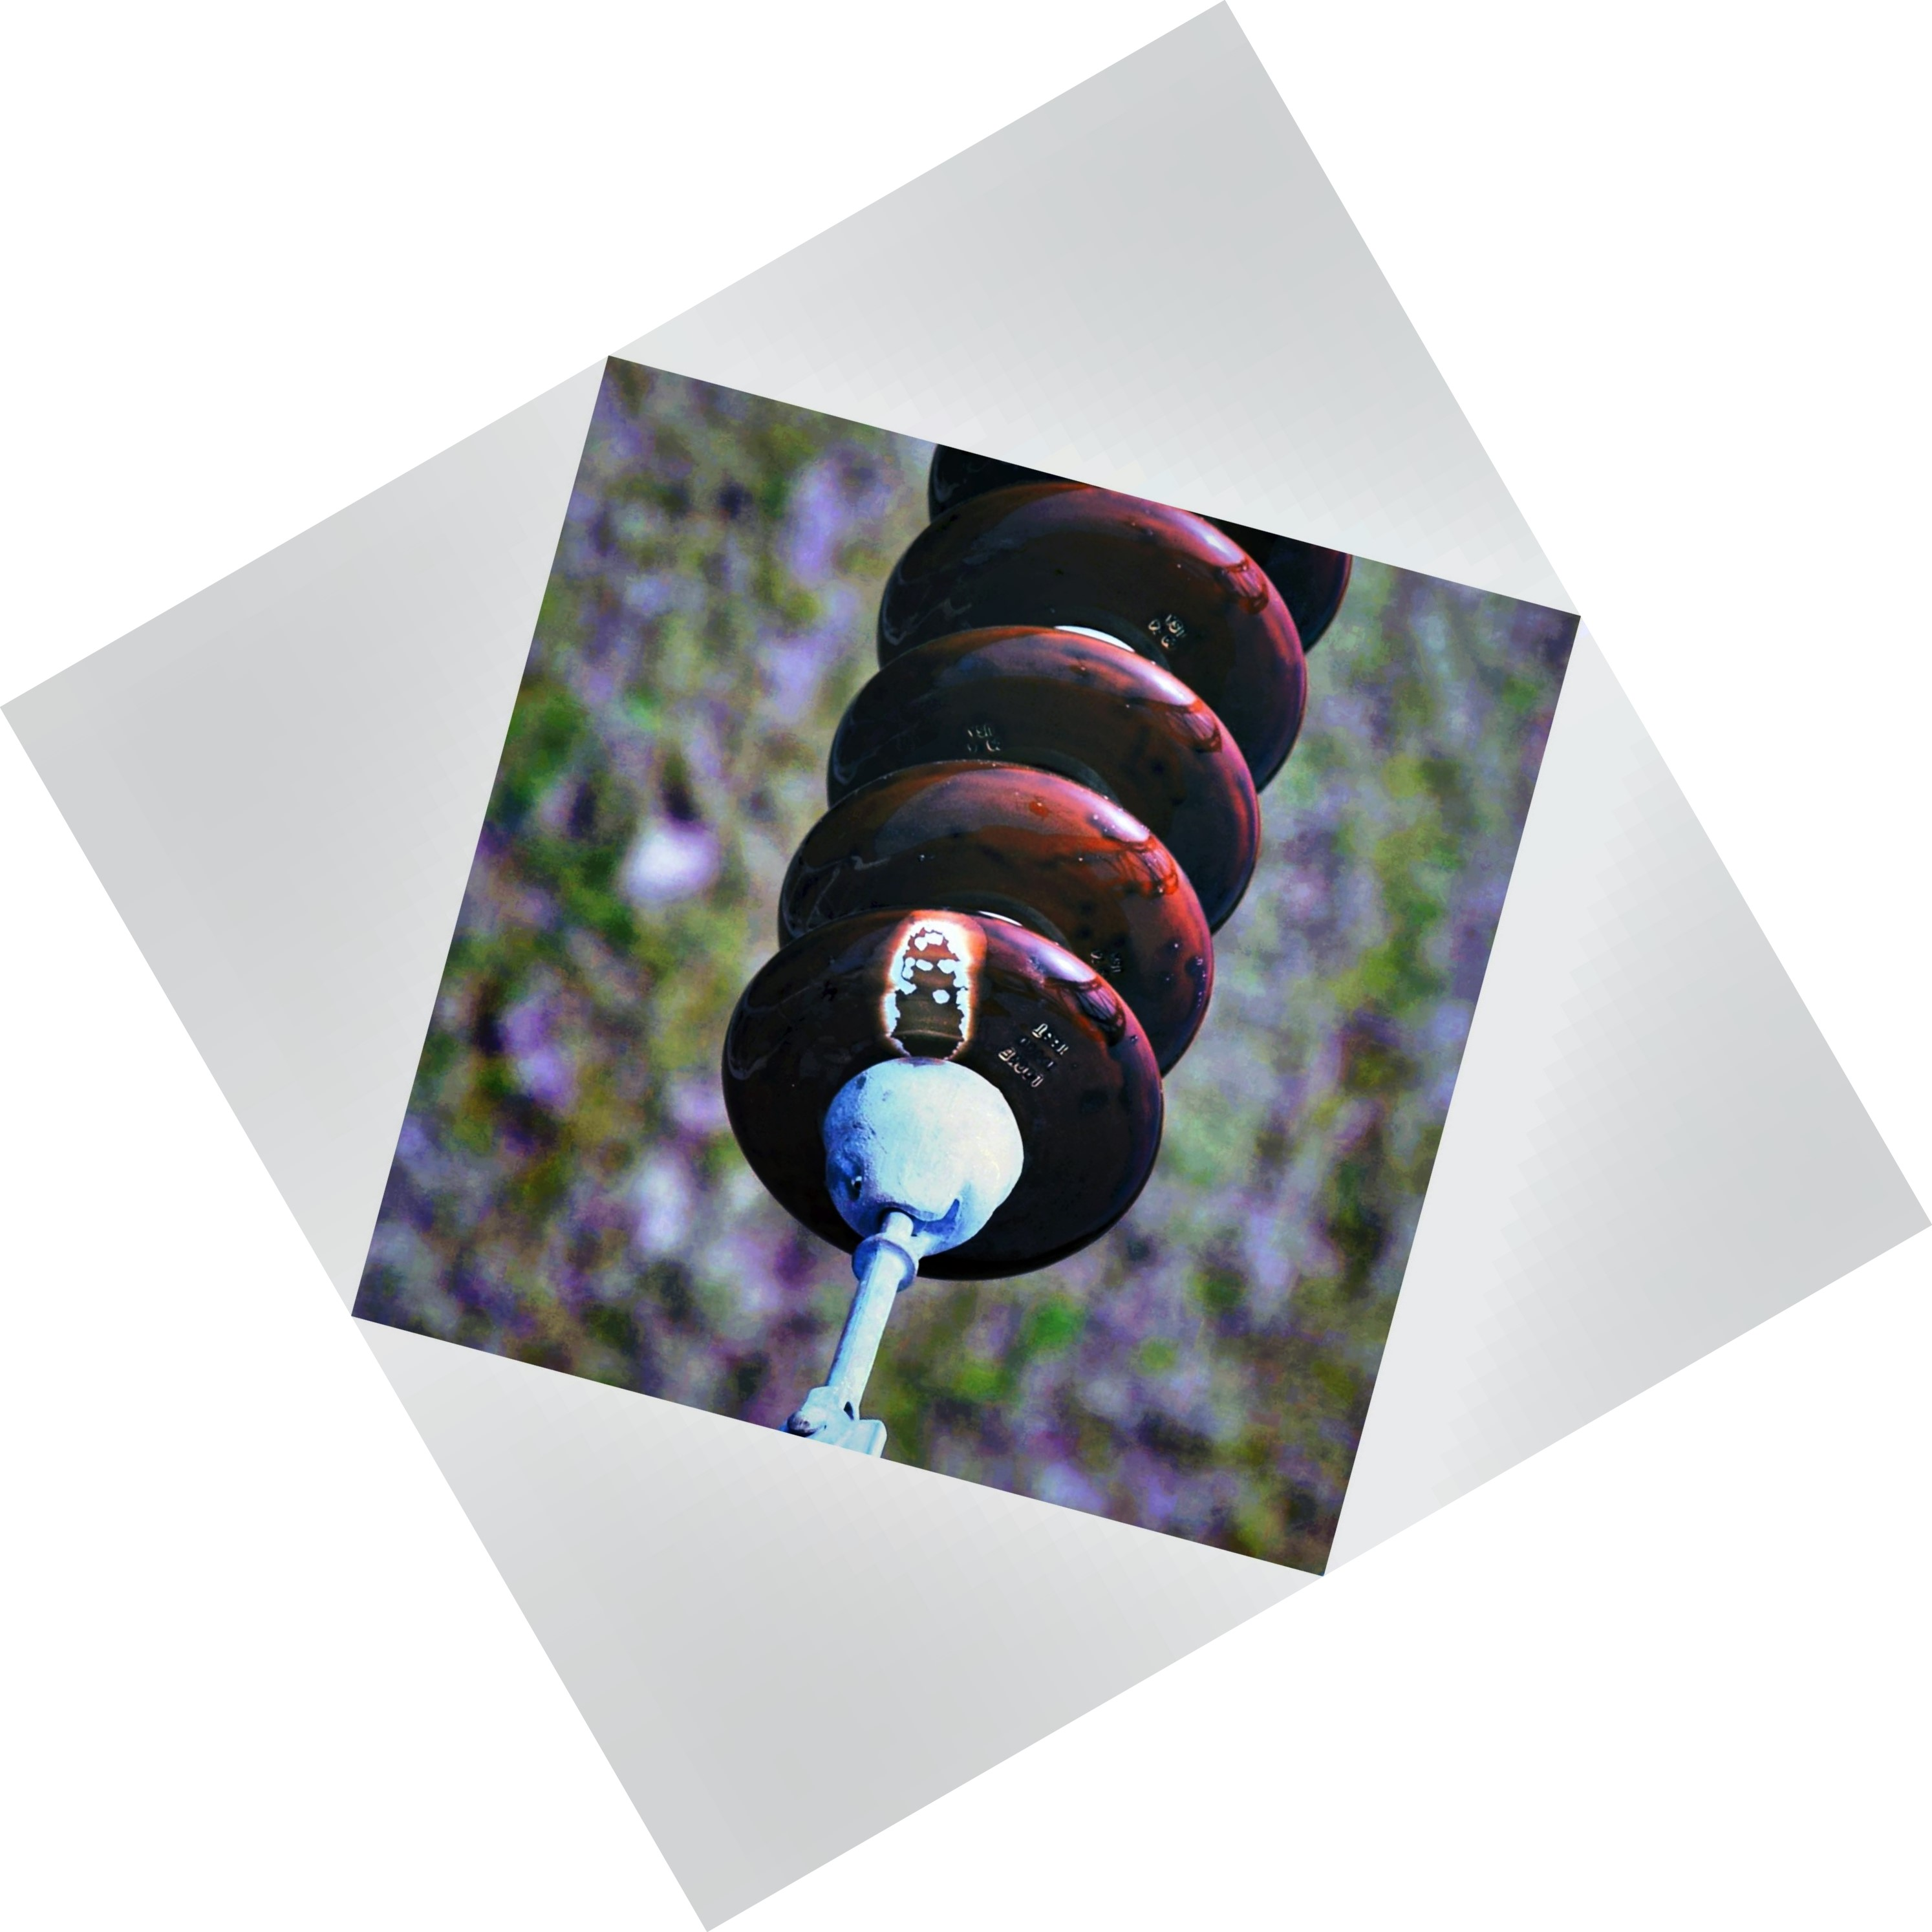Insulator flashover: (692, 892, 1182, 1295)
